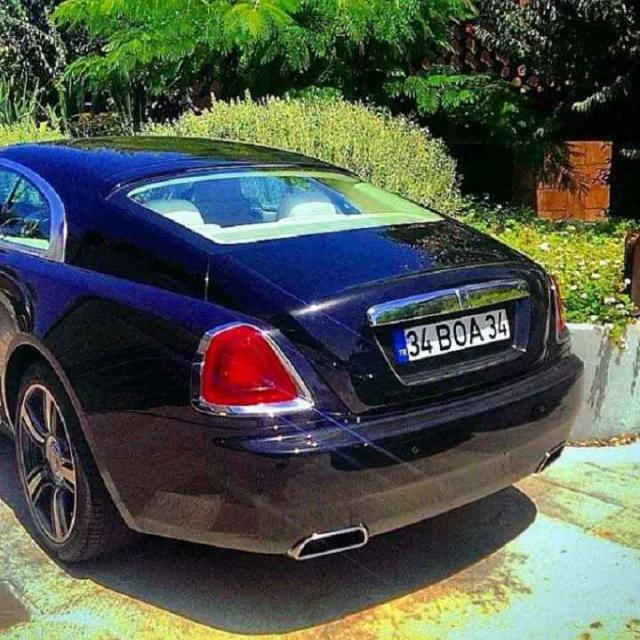plate: (387, 301, 518, 369)
